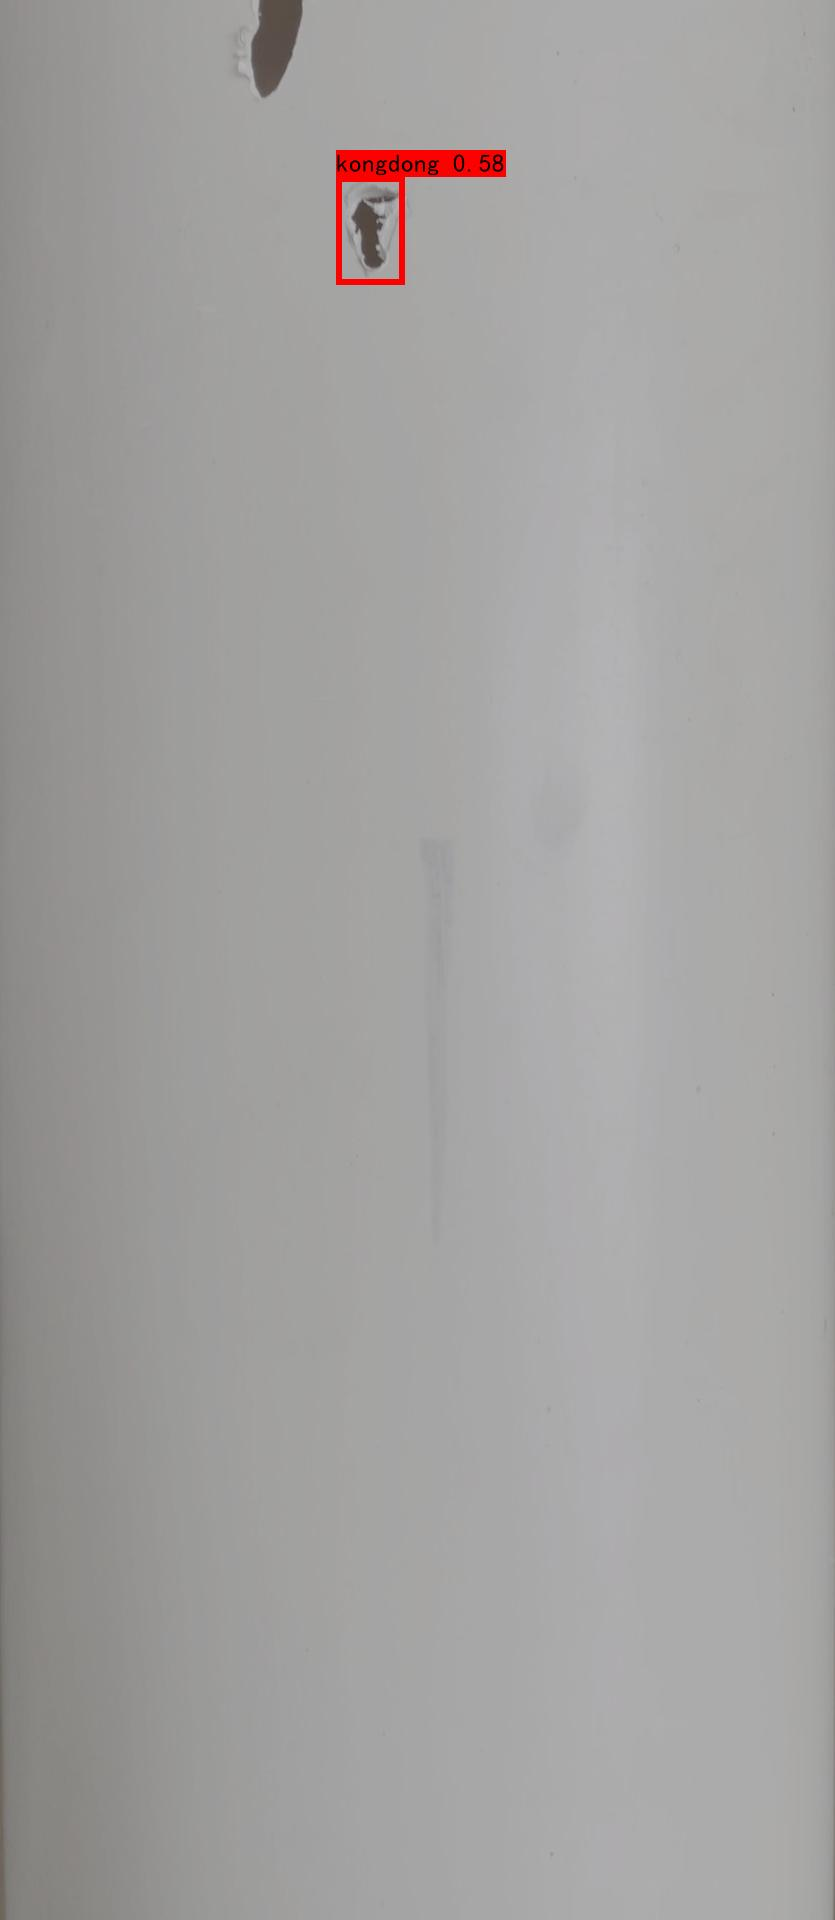kongdong: (328, 160, 437, 287), (235, 1, 309, 111)
